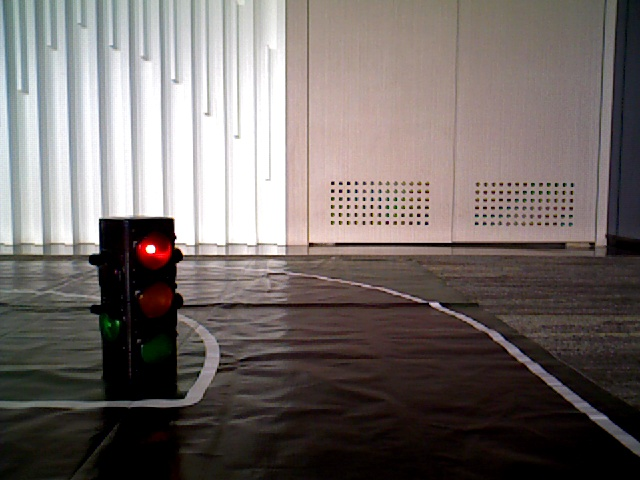red: (124, 222, 176, 384)
